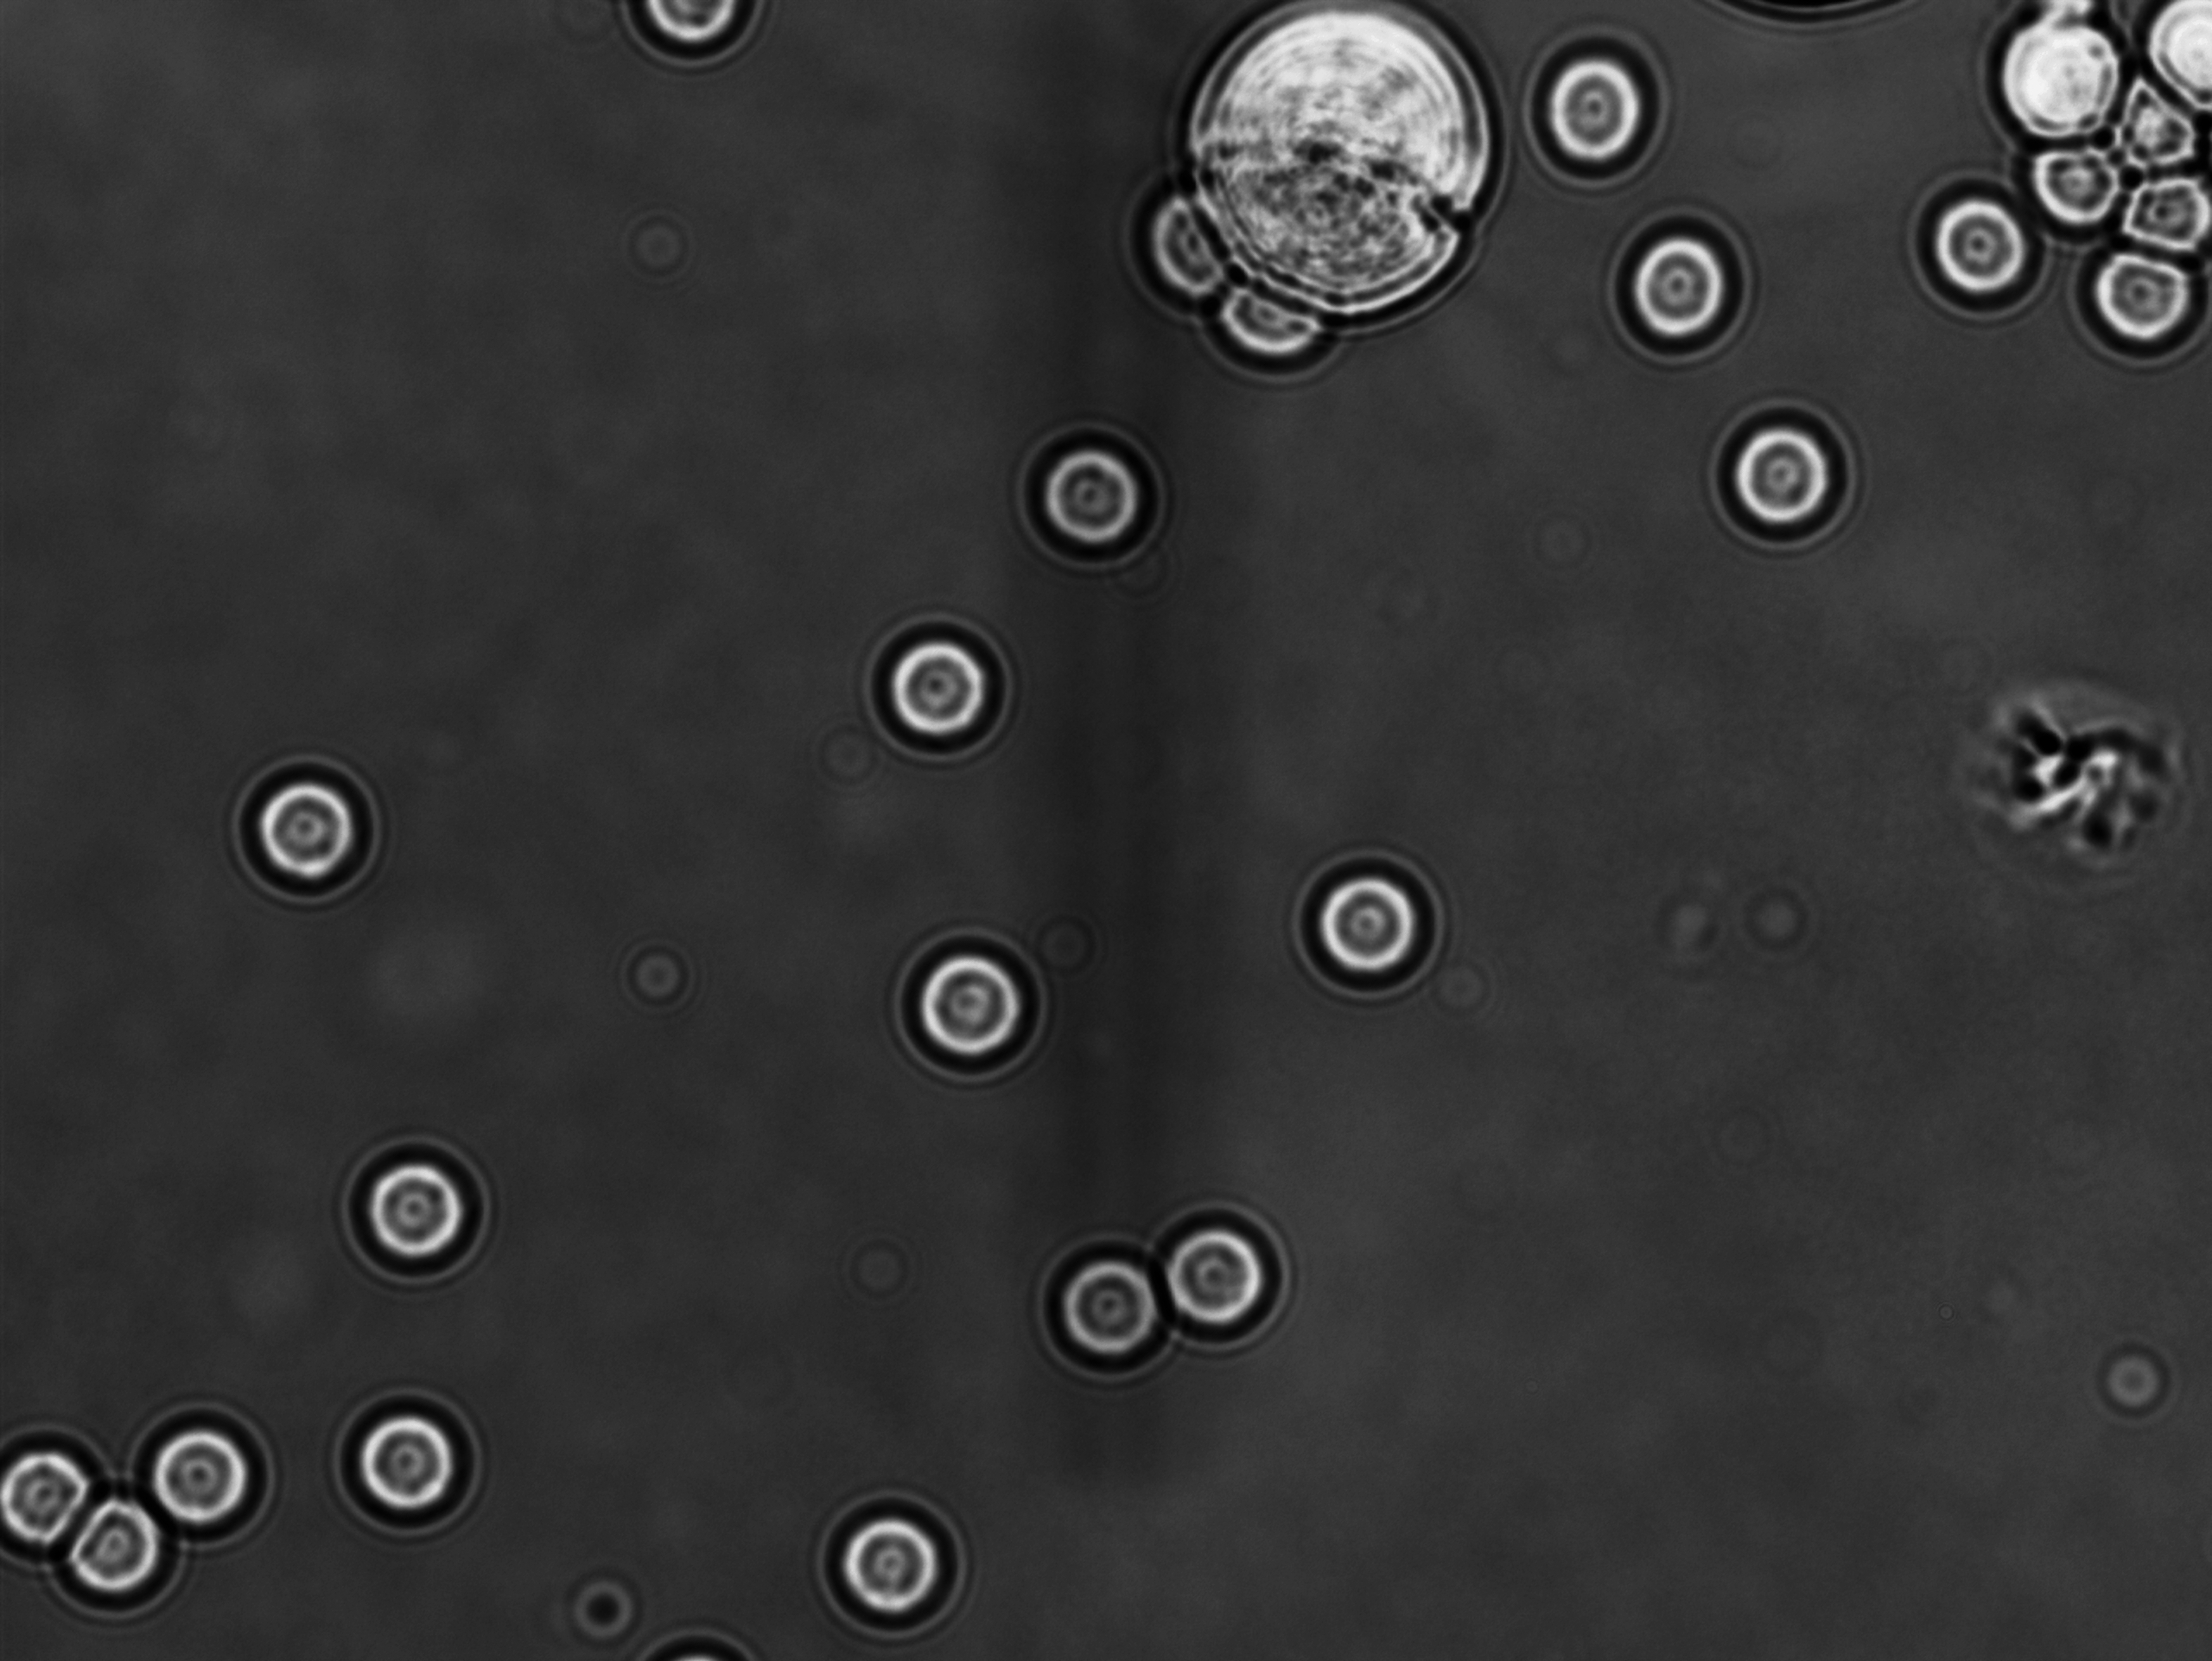depth:20: (870, 904, 1075, 1101), (1509, 12, 1699, 204), (1127, 1174, 1312, 1371), (1879, 159, 2067, 351), (218, 738, 410, 925), (1593, 192, 1774, 389), (846, 600, 1038, 782), (795, 1466, 982, 1649), (1694, 387, 1875, 569), (1275, 830, 1457, 1010), (1017, 1213, 1195, 1394), (335, 1125, 509, 1300), (1010, 407, 1181, 581), (2052, 213, 2212, 394), (1980, 98, 2151, 265), (324, 1378, 494, 1541), (133, 1387, 293, 1551), (31, 1466, 197, 1621), (2071, 112, 2212, 293)
